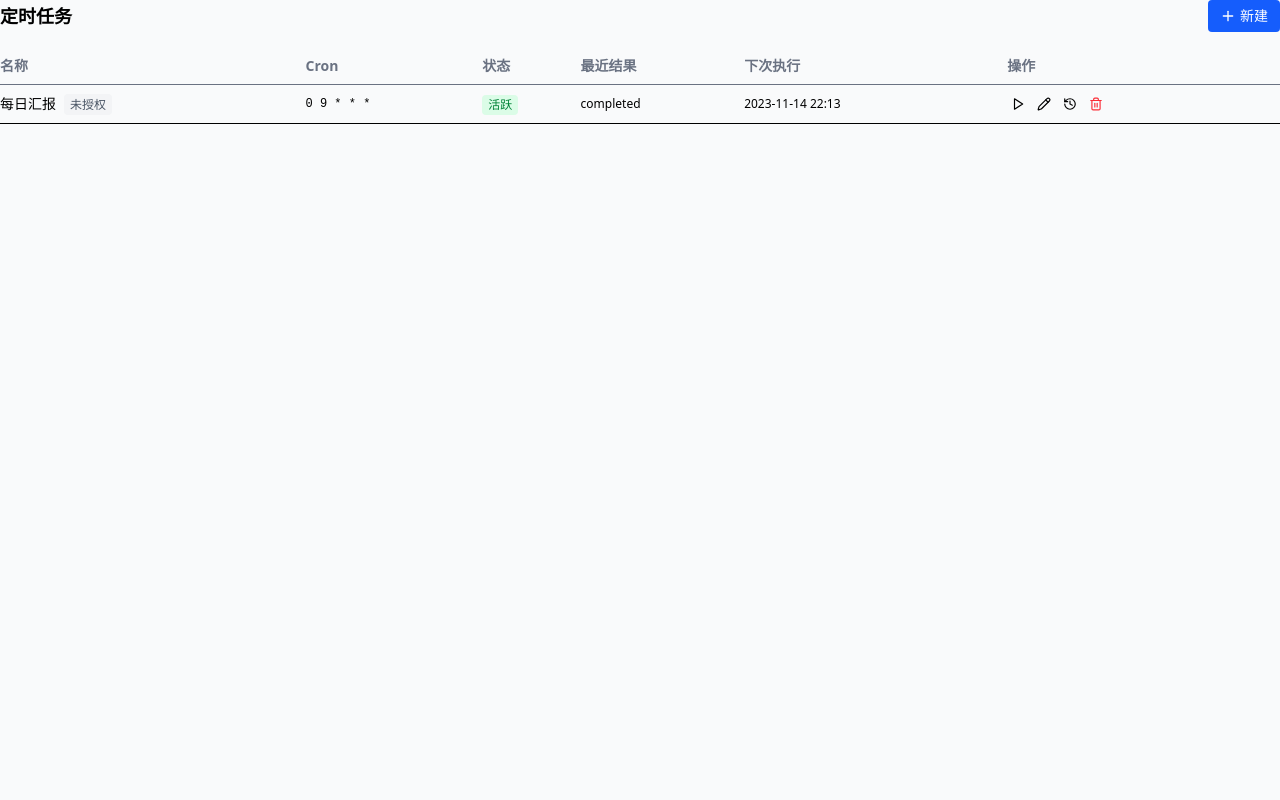
Test: Cron 页 › 运行历史抽屉按 job 拉取 runs
Step 1. Click the button named "查看 每日汇报 的运行历史" → click(1070, 104), box [1059,93,1081,115]
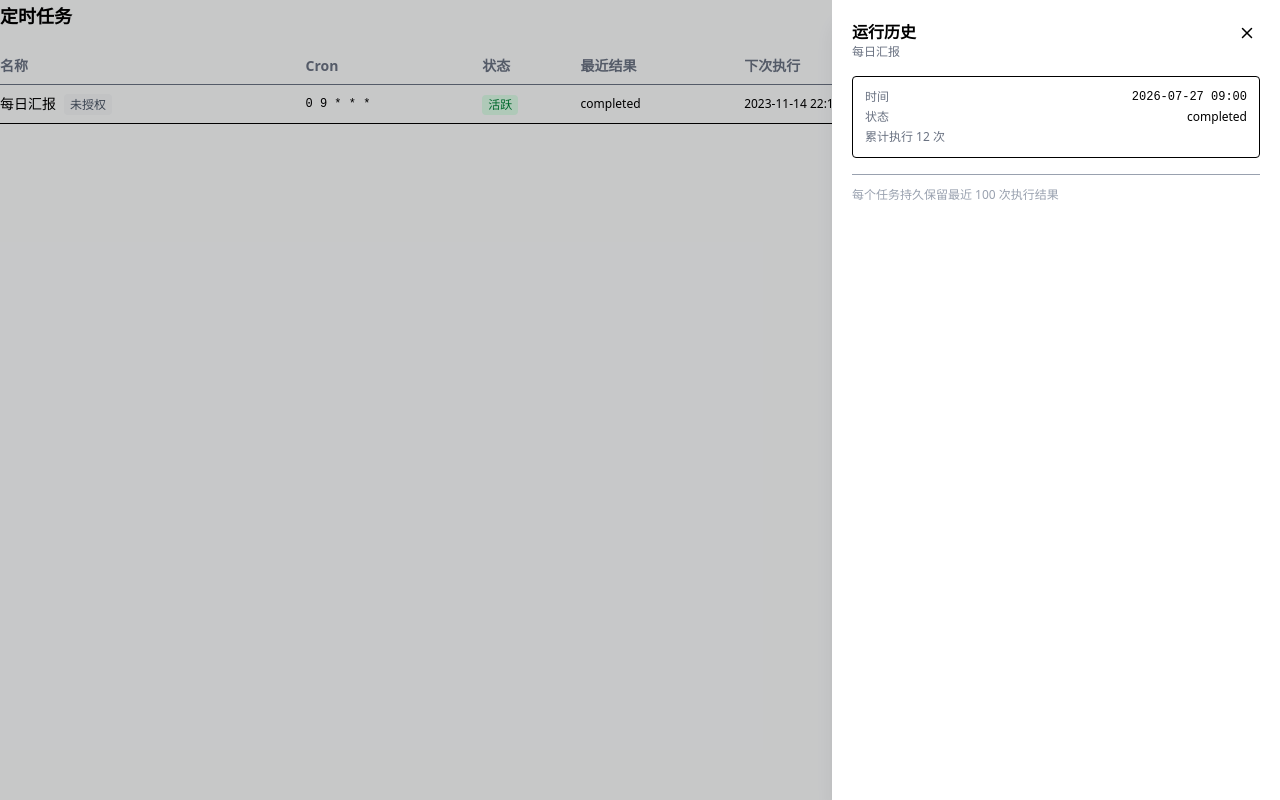
Now the text "每个任务持久保留最近 100 次执行结果" is shown, box [852,174,1260,203]
